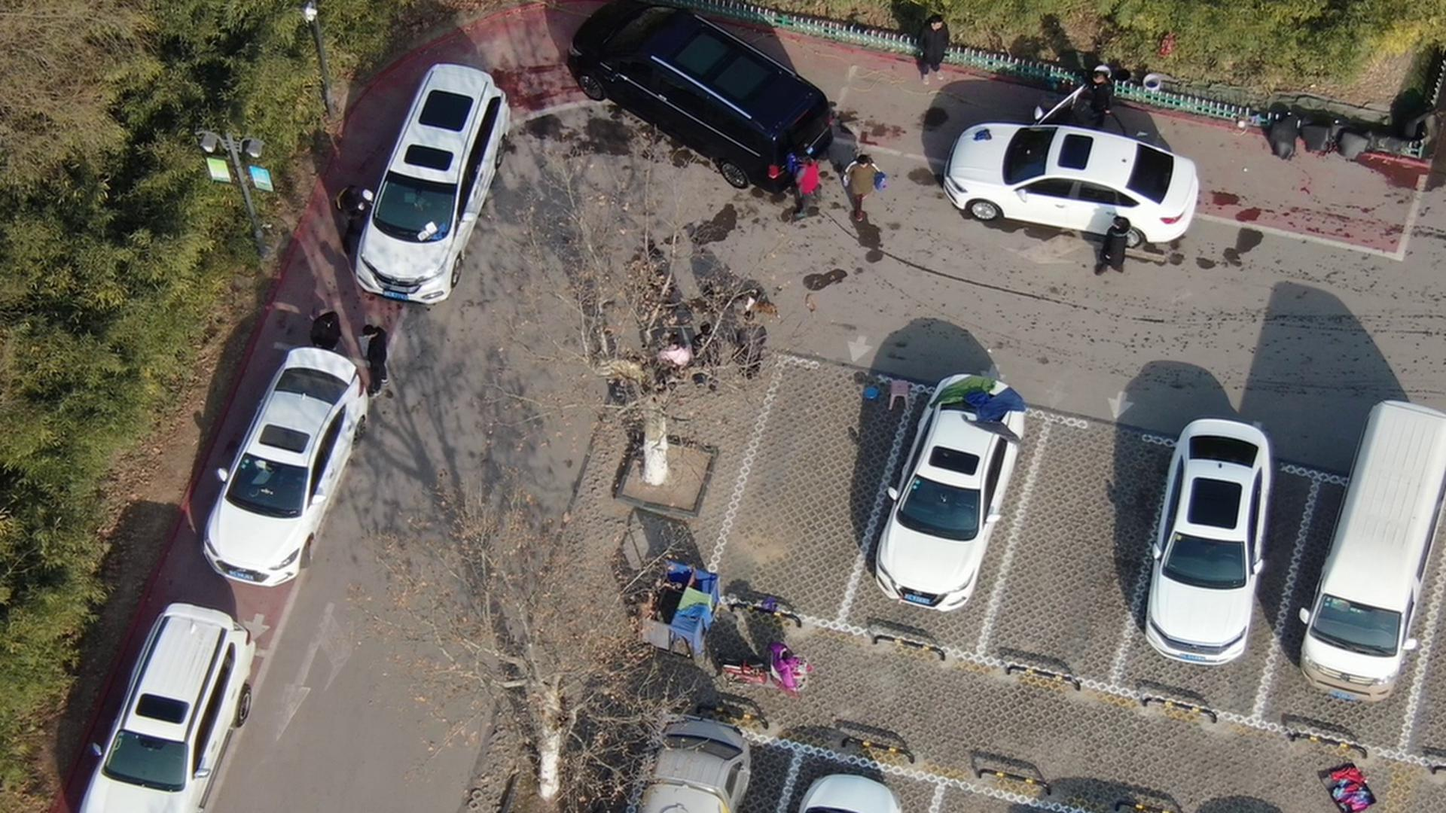human: (850, 146, 896, 220), (925, 5, 962, 84), (695, 319, 730, 402), (1094, 215, 1137, 282), (732, 314, 771, 385), (798, 142, 831, 225), (368, 321, 396, 406), (1093, 65, 1124, 130), (345, 186, 373, 257), (313, 306, 350, 357)
